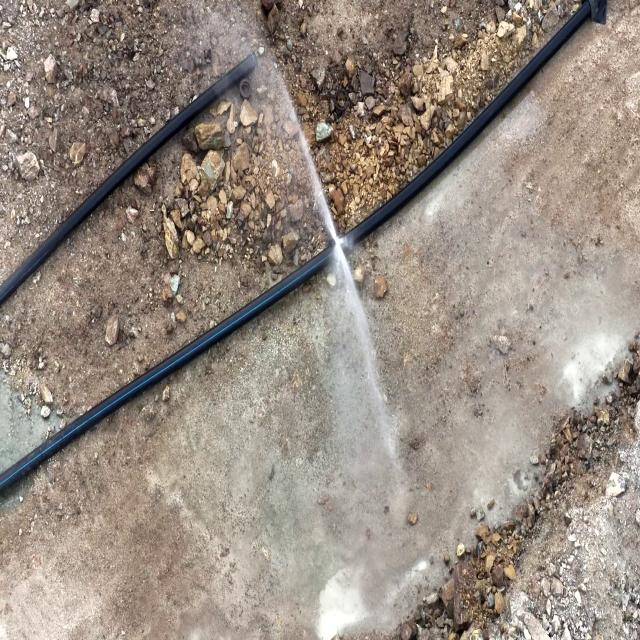leak: (270, 60, 380, 406)
